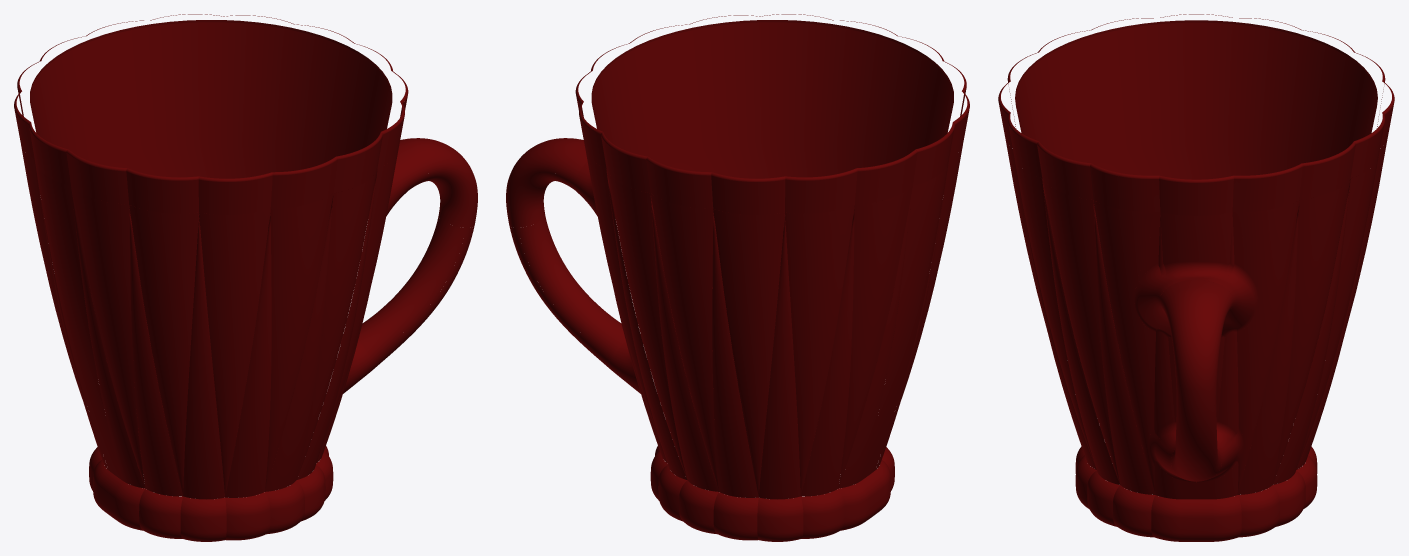
The model's file is CM-MUG033 .glb.
3 views of the same model, side by side, from view 1: azimuth 30°, elevation 25°; view 2: azimuth 150°, elevation 25°; view 3: azimuth 270°, elevation 25° (orthographic).
Parts seen in each view (by area): view 1: Mesh_0.001, Mesh_78, Mesh_42, Mesh_148, Mesh_75, Mesh_54, Mesh_81, Mesh_136, Mesh_53, Mesh_41, Mesh_135, Mesh_138 (+25 smaller); view 2: Mesh_0.001, Mesh_100, Mesh_49, Mesh_149, Mesh_103, Mesh_69, Mesh_97, Mesh_146, Mesh_70, Mesh_50, Mesh_145, Mesh_142 (+25 smaller); view 3: Mesh_0.001, Mesh_59, Mesh_65, Mesh_43, Mesh_48, Mesh_55, Mesh_68, Mesh_97, Mesh_81, Mesh_122, Mesh_115, Mesh_56 (+38 smaller).
Boxes of the visible parts, x1,y1,x2,y2 form: Mesh_0.001: (30,22,392,406); Mesh_78: (199,209,270,496); Mesh_42: (129,205,198,495); Mesh_148: (265,194,333,491); Mesh_75: (71,186,145,487); Mesh_54: (183,215,225,499); Mesh_81: (297,170,377,478); Mesh_136: (225,211,271,497); Mesh_53: (129,205,182,496); Mesh_41: (45,175,122,480); Mesh_135: (265,195,333,491); Mesh_138: (358,220,466,359); Mesh_0.001: (591,22,953,406); Mesh_100: (713,209,784,496); Mesh_49: (785,205,854,495); Mesh_149: (650,194,718,491); Mesh_103: (838,186,912,487); Mesh_69: (758,215,800,499); Mesh_97: (606,170,686,478); Mesh_146: (712,211,758,497); Mesh_70: (801,205,854,496); Mesh_50: (861,175,938,480); Mesh_145: (650,195,718,491); Mesh_142: (517,220,625,359); Mesh_0.001: (1015,22,1377,387); Mesh_59: (1093,200,1159,494); Mesh_65: (1233,200,1299,494); Mesh_43: (1042,179,1119,483); Mesh_48: (1273,179,1350,483); Mesh_55: (1093,201,1154,494); Mesh_68: (1238,201,1299,494); Mesh_97: (1297,159,1378,466); Mesh_81: (1014,159,1095,466); Mesh_122: (1196,279,1233,412); Mesh_115: (1159,279,1196,412); Mesh_56: (1042,180,1119,484).
Size of the model in its own units: 0.0971 by 0.0865 by 0.0765.
